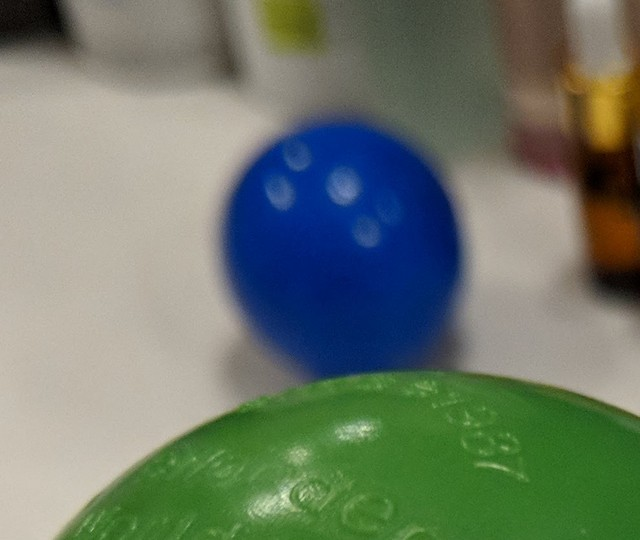ball: (210, 104, 472, 377)
